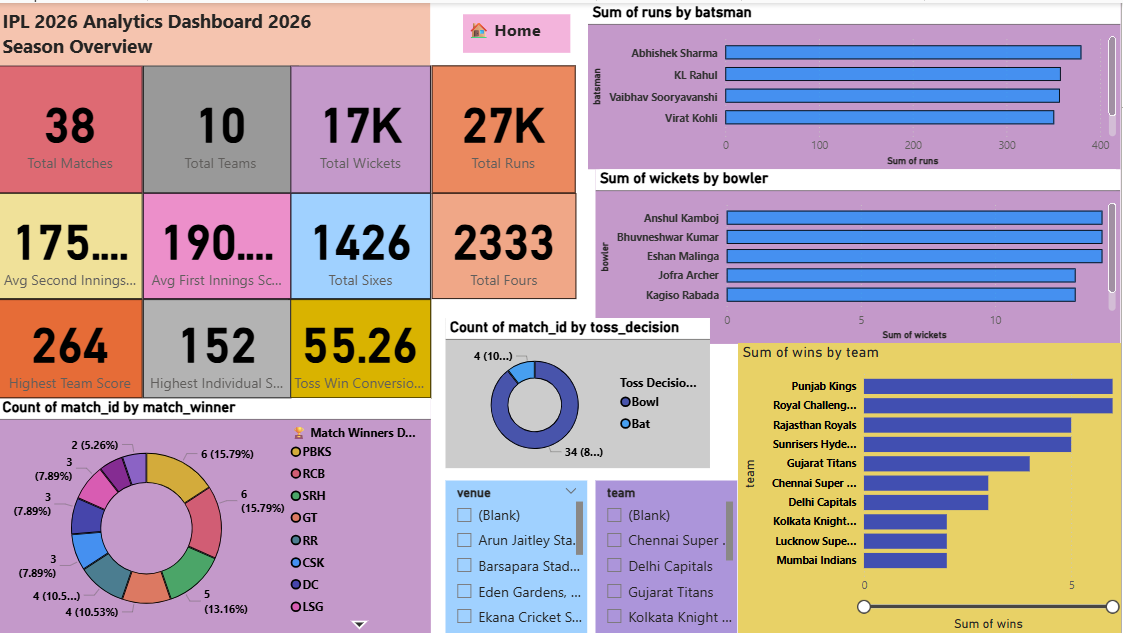

The dashboard page shown, as its layout file describes it:
{"tool":"powerbi","page":{"name":"Page 1","canvas":[1280,720],"ordinal":0},"visuals":[{"type":"card","fields":{"Values":["Measures (2).Total Matches"]},"box":[0,70.9,165.1,145.5],"z":0},{"type":"card","fields":{"Values":["Measures (2).Total Teams"]},"box":[165.1,70.9,177.3,145.5],"z":1000},{"type":"card","fields":{"Values":["Measures (2).Total Sixes"]},"box":[333.8,216.4,160.2,121.1],"z":2000},{"type":"card","fields":{"Values":["Measures (2).Total Wickets"]},"box":[333.8,70.9,160.2,145.5],"z":3000},{"type":"card","fields":{"Values":["Measures (2).Total Fours"]},"box":[494,216.4,165.1,121.1],"z":4000},{"type":"card","fields":{"Values":["Measures (2).Avg First Innings Score"]},"box":[165.1,216.4,168.8,121.1],"z":5000},{"type":"card","fields":{"Values":["Measures (2).Avg Second Innings Score"]},"box":[0,216.4,165.1,121.1],"z":6000},{"type":"card","fields":{"Values":["Measures (2).Toss Win Conversion %"]},"box":[330.7,337.6,163.3,112.5],"z":7000},{"type":"card","fields":{"Values":["Measures (2).Total Runs"]},"box":[494,70.9,163.9,145.5],"z":8000},{"type":"donutChart","title":"Team Wins Rankings","fields":{"Category":["matches.match_winner"],"Y":["CountNonNull(matches.match_id)"]},"box":[0,450.1,494,270.3],"z":9000},{"type":"card","fields":{"Values":["Measures (2).Highest Individual Score"]},"box":[164.7,337.6,168.8,112.5],"z":10000},{"type":"card","fields":{"Values":["Measures (2).Highest Team Score"]},"box":[0,337.6,164.7,112.5],"z":11000},{"type":"textbox","box":[0,0,493.2,71.3],"z":12000},{"type":"clusteredBarChart","title":"Orange Cap Race ","fields":{"Category":["batting_stats.batsman"],"Y":["Sum(batting_stats.runs)"]},"box":[672.8,0,607.2,189.6],"z":13000},{"type":"clusteredBarChart","title":"Purple Cap Race","fields":{"Category":["bowling_stats.bowler"],"Y":["Sum(bowling_stats.wickets)"]},"box":[682,189.4,598.3,199],"z":14000},{"type":"donutChart","title":"Toss Decision Analysis","fields":{"Category":["matches.toss_decision"],"Y":["CountNonNull(matches.match_id)"]},"box":[510.5,359.5,301.9,171.5],"z":15000},{"type":"clusteredBarChart","title":"Match Winners Distribution","fields":{"Category":["points_table.team"],"Y":["Sum(points_table.wins)"]},"box":[843.9,388.3,436.4,332.1],"z":16000},{"type":"slicer","fields":{"Values":["points_table.team"]},"box":[682,544.8,161.9,175.6],"z":17000},{"type":"slicer","fields":{"Values":["matches.venue"]},"box":[510.5,544.8,161.9,175.6],"z":18000},{"type":"textbox","box":[530.2,12.8,122.6,44.2],"z":19000}]}

Visuals, with their boxes in screenshot pixels (x1, y1, x2, y2), scaled from the page's 1280x720 canvas onto the 1123x633 screenshot:
card - Measures (2).Total Matches: <region>0, 62, 145, 190</region>
card - Measures (2).Total Teams: <region>145, 62, 300, 190</region>
card - Measures (2).Total Sixes: <region>293, 190, 433, 297</region>
card - Measures (2).Total Wickets: <region>293, 62, 433, 190</region>
card - Measures (2).Total Fours: <region>433, 190, 578, 297</region>
card - Measures (2).Avg First Innings Score: <region>145, 190, 293, 297</region>
card - Measures (2).Avg Second Innings Score: <region>0, 190, 145, 297</region>
card - Measures (2).Toss Win Conversion %: <region>290, 297, 433, 396</region>
card - Measures (2).Total Runs: <region>433, 62, 577, 190</region>
"Team Wins Rankings" donutChart: <region>0, 396, 433, 632</region>
card - Measures (2).Highest Individual Score: <region>144, 297, 293, 396</region>
card - Measures (2).Highest Team Score: <region>0, 297, 144, 396</region>
textbox: <region>0, 0, 433, 63</region>
"Orange Cap Race " clusteredBarChart: <region>590, 0, 1122, 167</region>
"Purple Cap Race" clusteredBarChart: <region>598, 167, 1122, 341</region>
"Toss Decision Analysis" donutChart: <region>448, 316, 713, 467</region>
"Match Winners Distribution" clusteredBarChart: <region>740, 341, 1122, 632</region>
slicer - points_table.team: <region>598, 479, 740, 632</region>
slicer - matches.venue: <region>448, 479, 590, 632</region>
textbox: <region>465, 11, 573, 50</region>
